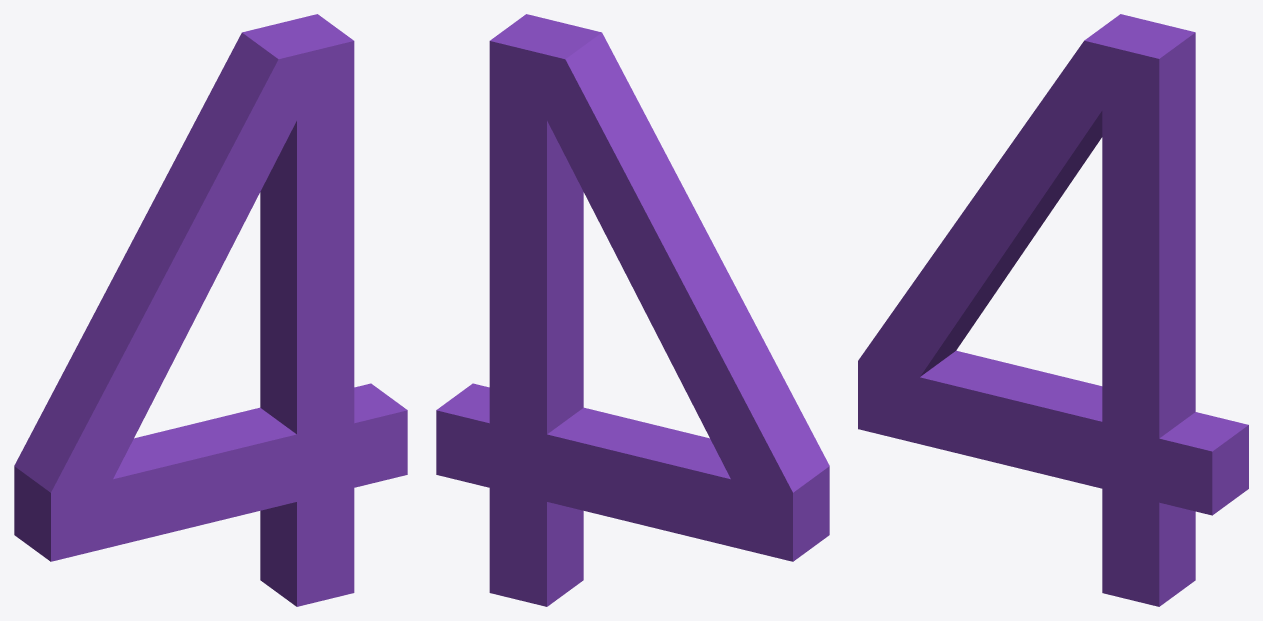
The model's file is original-6.obj.
The picture shows the model from 3 angles, left to right: view 1: azimuth 30°, elevation 25°; view 2: azimuth 150°, elevation 25°; view 3: azimuth 330°, elevation 25°; orthographic projection.
Visible parts, largest first — view 1: mesh9/mesh9-geometry#mesh9-geometry; view 2: mesh9/mesh9-geometry#mesh9-geometry; view 3: mesh9/mesh9-geometry#mesh9-geometry.
Boxes of the visible parts, left/top/right/bottom form: mesh9/mesh9-geometry#mesh9-geometry: left=14, top=14, right=407, bottom=606; mesh9/mesh9-geometry#mesh9-geometry: left=436, top=14, right=829, bottom=606; mesh9/mesh9-geometry#mesh9-geometry: left=858, top=14, right=1248, bottom=606.
Bounding box in the file's own units: 0.00675 × 0.00998 × 0.0012.
